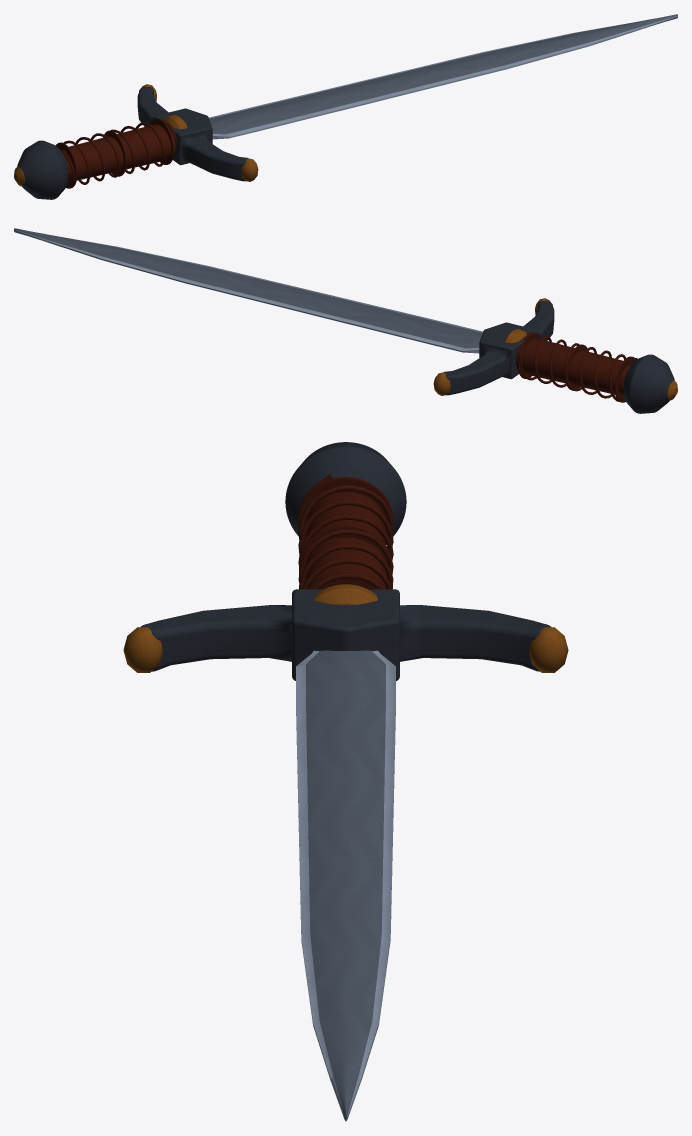
The model's file is weapon-duelling-longsword.glb.
The picture shows the model from 3 angles, top to bottom: view 1: azimuth 30°, elevation 25°; view 2: azimuth 150°, elevation 25°; view 3: azimuth 270°, elevation 25°; orthographic projection. The views are drawn at different scales.
Visible parts, largest first — view 1: DuellingLongsword_Blade, DuellingLongsword_GuardAndShoulder, DuellingLongsword_GripCore, DuellingLongsword_Pommel, DuellingLongsword_Wrap, DuellingLongsword_QuillonR; view 2: DuellingLongsword_Blade, DuellingLongsword_GuardAndShoulder, DuellingLongsword_GripCore, DuellingLongsword_Pommel, DuellingLongsword_Wrap, DuellingLongsword_QuillonL, DuellingLongsword_Riser2; view 3: DuellingLongsword_Blade, DuellingLongsword_GuardAndShoulder, DuellingLongsword_Wrap, DuellingLongsword_Pommel, DuellingLongsword_GripCore, DuellingLongsword_QuillonL, DuellingLongsword_QuillonR, DuellingLongsword_Riser2, DuellingLongsword_Collar.
Part boxes in pixels (x1=…): DuellingLongsword_Blade: x1=209, y1=14, x2=677, y2=139; DuellingLongsword_GuardAndShoulder: x1=137, y1=86, x2=247, y2=181; DuellingLongsword_GripCore: x1=60, y1=124, x2=175, y2=181; DuellingLongsword_Pommel: x1=17, y1=140, x2=68, y2=199; DuellingLongsword_Wrap: x1=62, y1=118, x2=177, y2=188; DuellingLongsword_QuillonR: x1=241, y1=158, x2=258, y2=181; DuellingLongsword_Blade: x1=14, y1=228, x2=482, y2=353; DuellingLongsword_GuardAndShoulder: x1=444, y1=300, x2=554, y2=395; DuellingLongsword_GripCore: x1=516, y1=338, x2=631, y2=395; DuellingLongsword_Pommel: x1=623, y1=354, x2=674, y2=413; DuellingLongsword_Wrap: x1=519, y1=332, x2=637, y2=401; DuellingLongsword_QuillonL: x1=433, y1=372, x2=450, y2=395; DuellingLongsword_Riser2: x1=614, y1=356, x2=635, y2=402; DuellingLongsword_Blade: x1=296, y1=650, x2=395, y2=1121; DuellingLongsword_GuardAndShoulder: x1=140, y1=589, x2=551, y2=680; DuellingLongsword_Wrap: x1=298, y1=474, x2=393, y2=589; DuellingLongsword_Pommel: x1=285, y1=442, x2=406, y2=536; DuellingLongsword_GripCore: x1=305, y1=492, x2=387, y2=589; DuellingLongsword_QuillonL: x1=529, y1=627, x2=568, y2=672; DuellingLongsword_QuillonR: x1=123, y1=627, x2=162, y2=672; DuellingLongsword_Riser2: x1=299, y1=477, x2=392, y2=537; DuellingLongsword_Collar: x1=313, y1=584, x2=378, y2=604.
Bounding box in the file's own units: 3.62 × 0.2875 × 1.06.
Materials: 5 (5 with a texture image).
